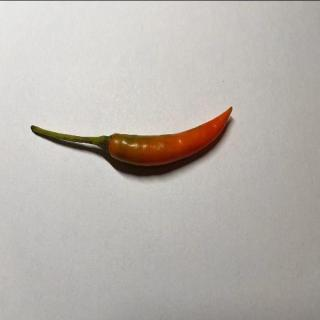Cabai Merah: (31, 107, 234, 167)
